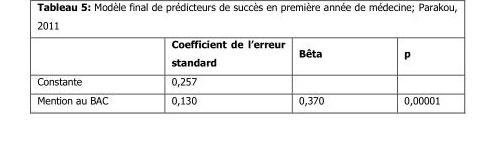table: (36, 37, 439, 105)
table column: (139, 37, 291, 105), (36, 37, 139, 105), (363, 37, 439, 105), (291, 37, 363, 105)
table column header: (36, 37, 439, 70)
table row: (36, 37, 439, 70), (36, 70, 439, 89), (36, 89, 439, 105)
